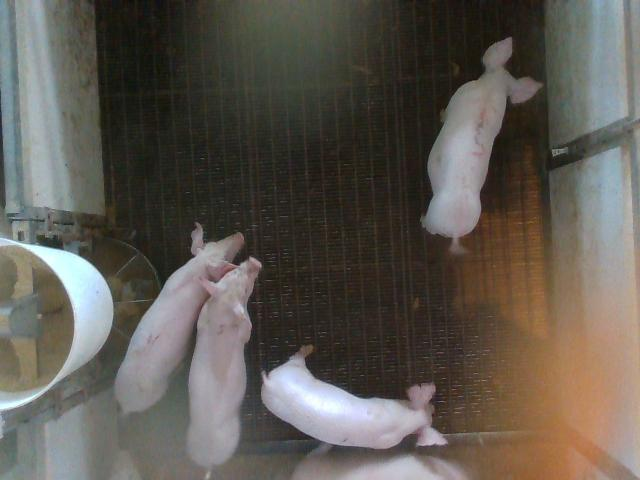pig-3: (421, 38, 542, 254)
